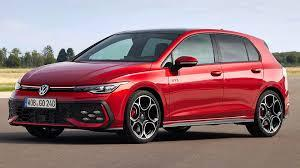volkswagen: (38, 84, 51, 96)
